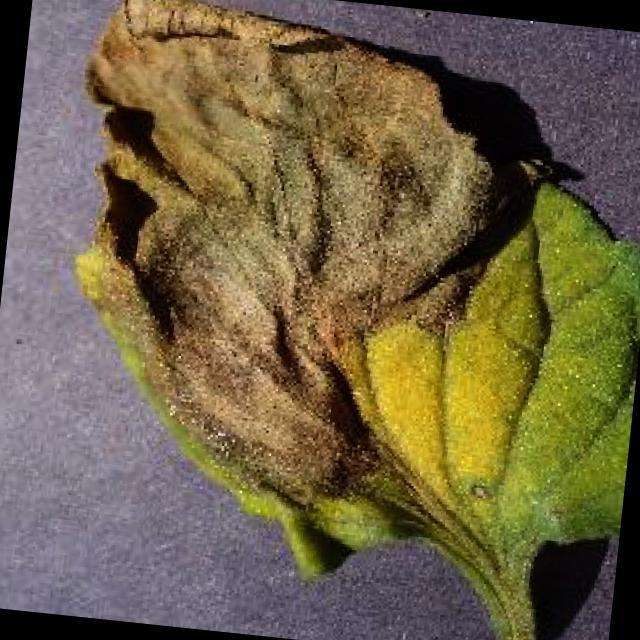Tomato late blight leaf: (36, 0, 640, 605)
